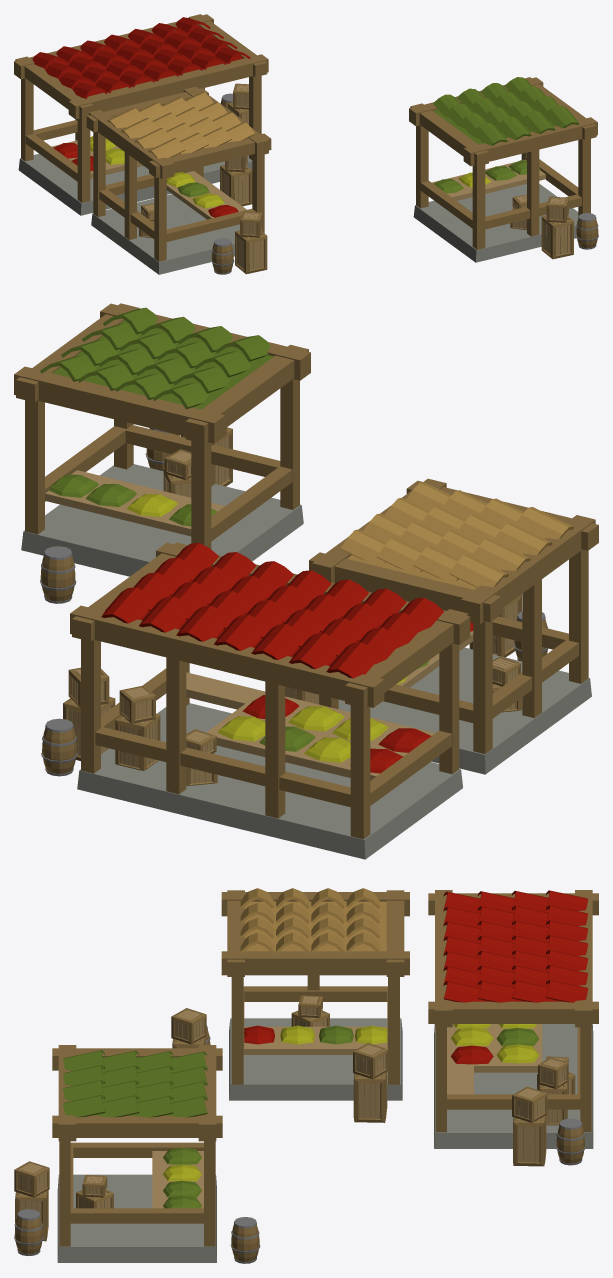
The model's file is quaternius-real-time-strategy-market-second-age-level-2.glb.
The picture shows the model from 3 angles, top to bottom: view 1: azimuth 30°, elevation 25°; view 2: azimuth 150°, elevation 25°; view 3: azimuth 270°, elevation 25°; orthographic projection. The views are drawn at different scales.
Parts seen in each view (by area): view 1: Market_SecondAge_Level2; view 2: Market_SecondAge_Level2; view 3: Market_SecondAge_Level2.
Boxes of the visible parts, box(x1,y1,x2,y2) form: Market_SecondAge_Level2: box(14, 14, 598, 274); Market_SecondAge_Level2: box(14, 303, 598, 859); Market_SecondAge_Level2: box(14, 888, 598, 1263).
Size of the model in its own units: 1.92 by 0.657 by 2.01.
1 material, 1 textured.
